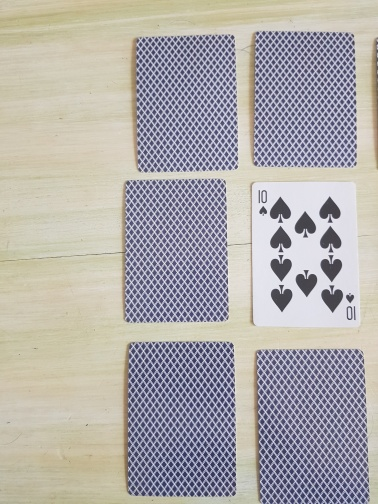ten: (250, 180, 361, 329)
